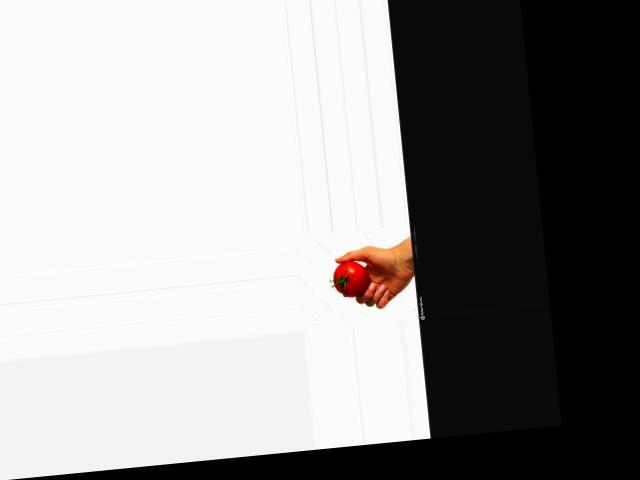tomato: (331, 259, 371, 297)
